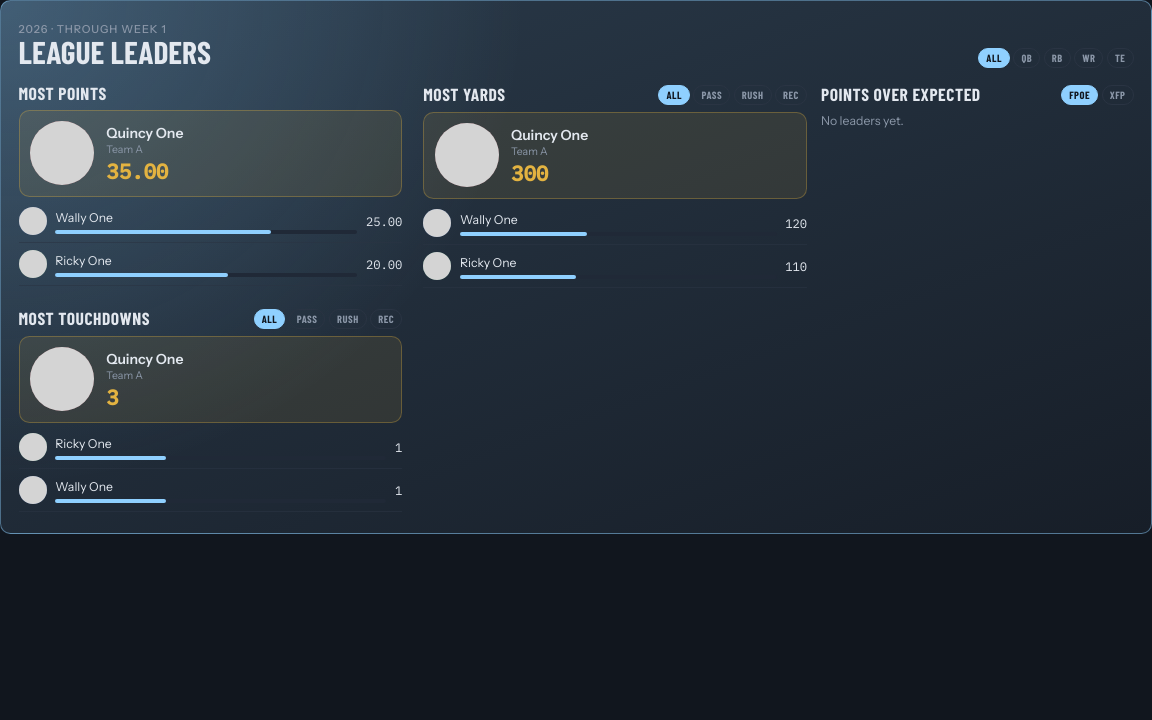
LeadersBand › says so when a position has no leaders
Click the button "TE".
click(1120, 58)  # box [1107,48,1134,68]
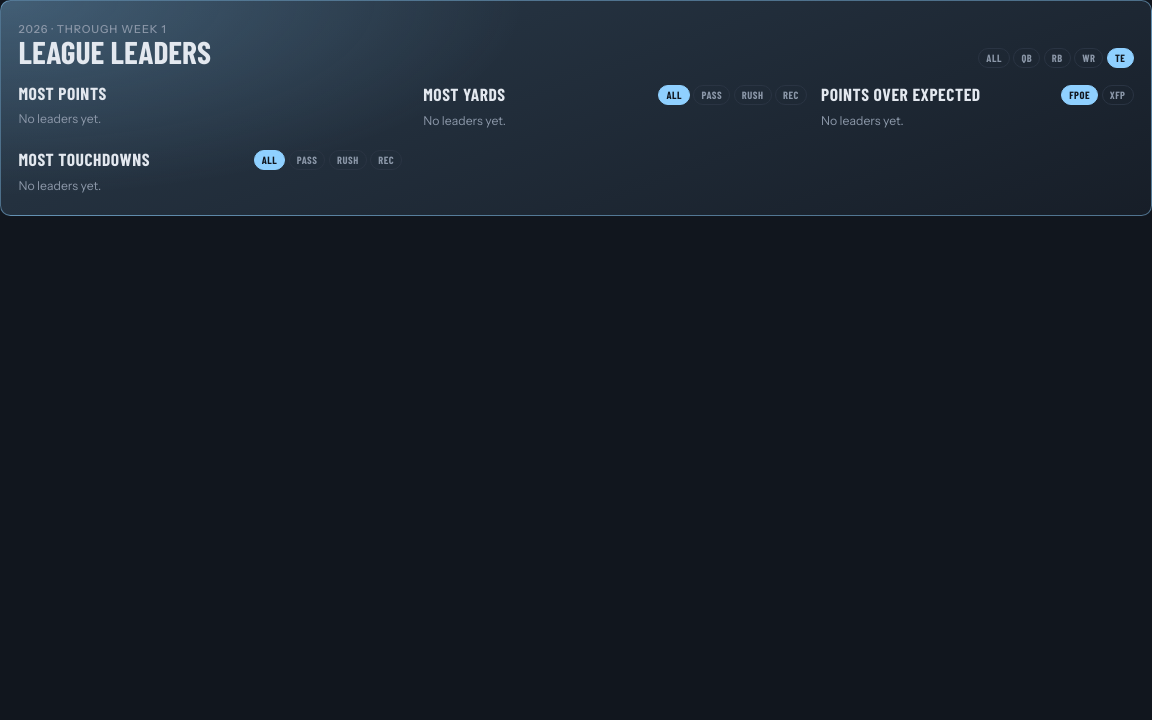
Expected: the text "No leaders yet." below "Most points" is shown, [18,111,101,126]
